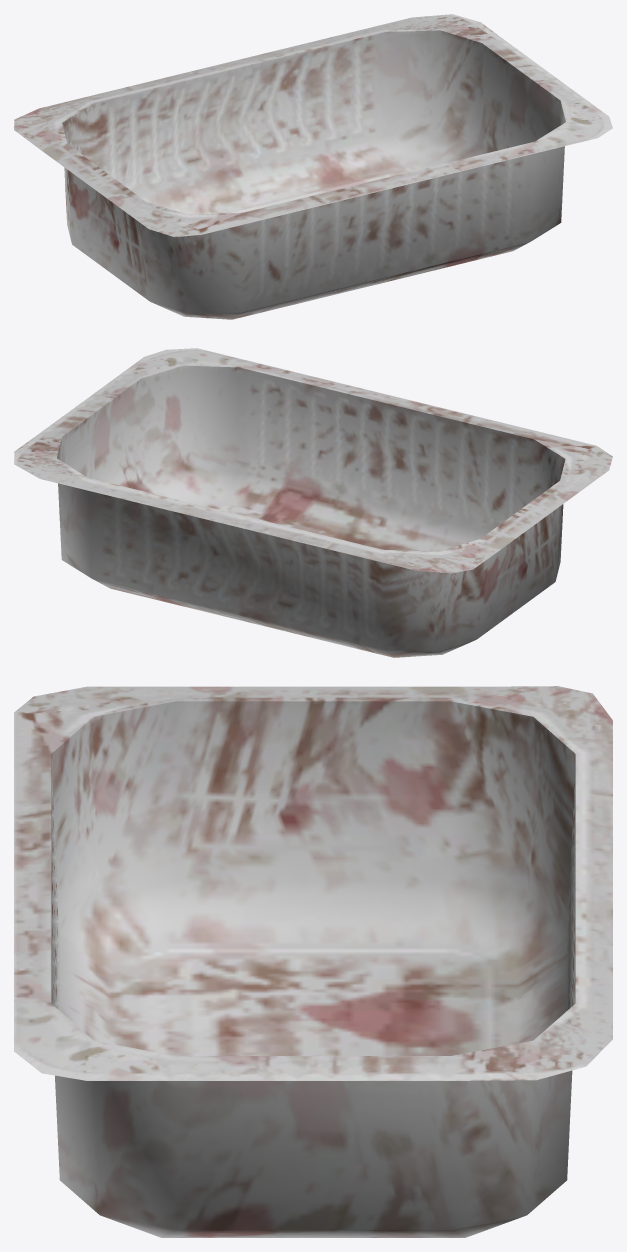
The model's file is SM_TrashScrapCase_02_A.fbx.
3 renders of one model, top to bottom at view 1: azimuth 30°, elevation 25°; view 2: azimuth 150°, elevation 25°; view 3: azimuth 270°, elevation 25°, orthographic. The views are drawn at different scales.
Visible parts, largest first — view 1: SM_TrashScrapCase_02_A; view 2: SM_TrashScrapCase_02_A; view 3: SM_TrashScrapCase_02_A.
Part boxes in pixels (<box>): SM_TrashScrapCase_02_A: <box>14,14,612,319</box>; SM_TrashScrapCase_02_A: <box>14,348,612,657</box>; SM_TrashScrapCase_02_A: <box>14,686,612,1237</box>.
Bounding box in the file's own units: 38.7 × 24.86 × 9.66.
Materials: 1 (1 with a texture image).
